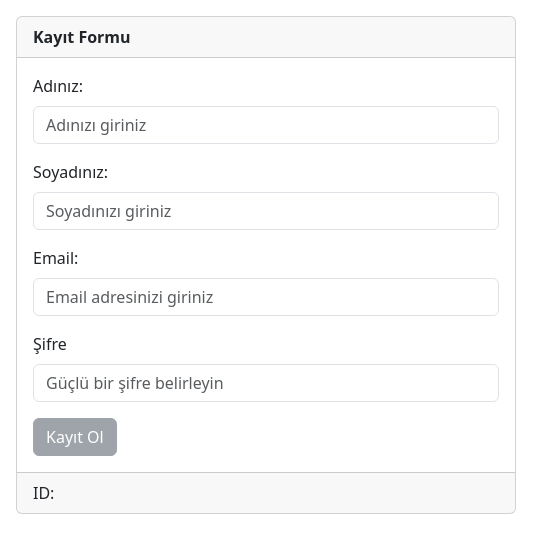
Test case: Register Page › Error Messages › name input throws error for 2 chars
The width and height of the screenshot is (533, 556).
Type "em" into the field with test id "ad-input" at {"x": 266, "y": 125}, box [33,106,499,144]
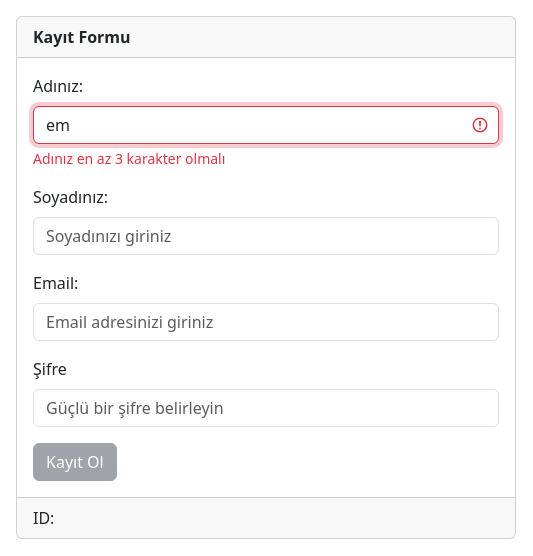
Expected: the text "Adınız en az 3 karakter olmalı" is shown, [33,149,225,168]
